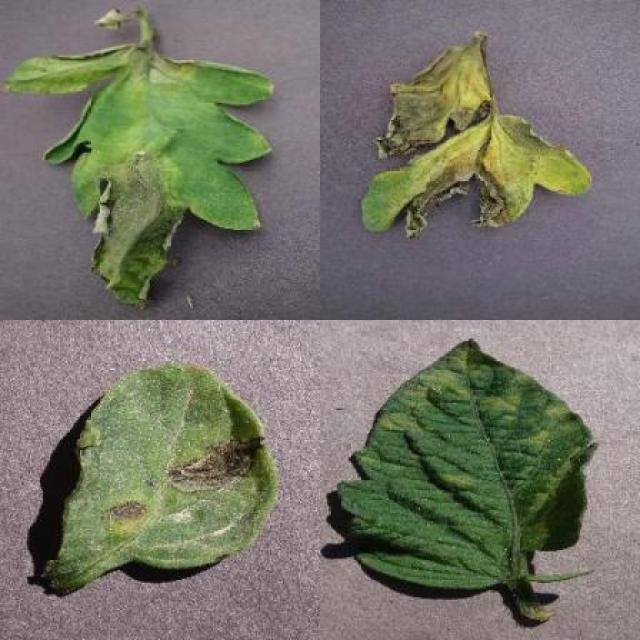Early Blight: (38, 361, 278, 593)
Late Blight: (2, 39, 275, 307), (358, 35, 592, 244)
Leaf Mold: (336, 340, 596, 590)
